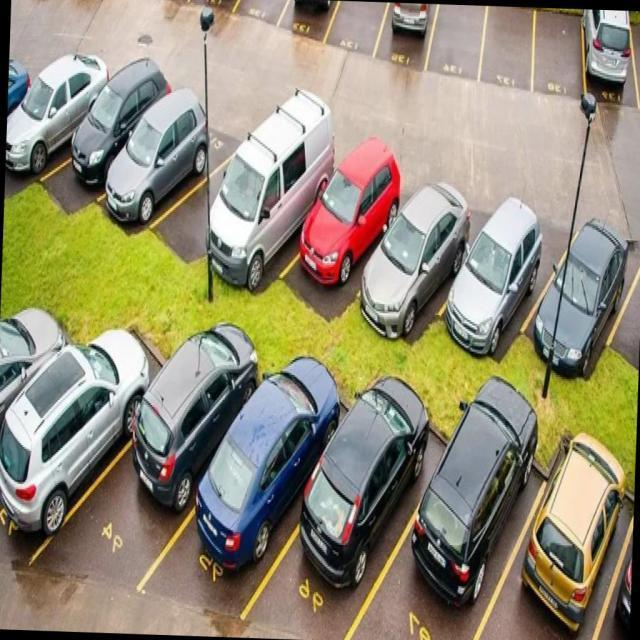car: (101, 312, 250, 584), (284, 373, 434, 633), (187, 346, 336, 606), (0, 319, 150, 572), (386, 392, 536, 640), (514, 434, 635, 640), (53, 49, 166, 230), (357, 158, 475, 331), (216, 112, 330, 284), (0, 283, 66, 528), (106, 90, 207, 248), (4, 52, 108, 202), (526, 203, 630, 351), (446, 198, 554, 339), (297, 158, 392, 308), (600, 472, 636, 640), (584, 9, 635, 126), (374, 1, 432, 76), (6, 23, 27, 178), (288, 0, 344, 44)
free: (174, 117, 266, 279), (528, 8, 584, 112), (426, 4, 488, 94), (612, 218, 640, 374), (484, 6, 536, 88), (324, 0, 392, 58), (626, 15, 640, 121), (242, 0, 296, 24)
